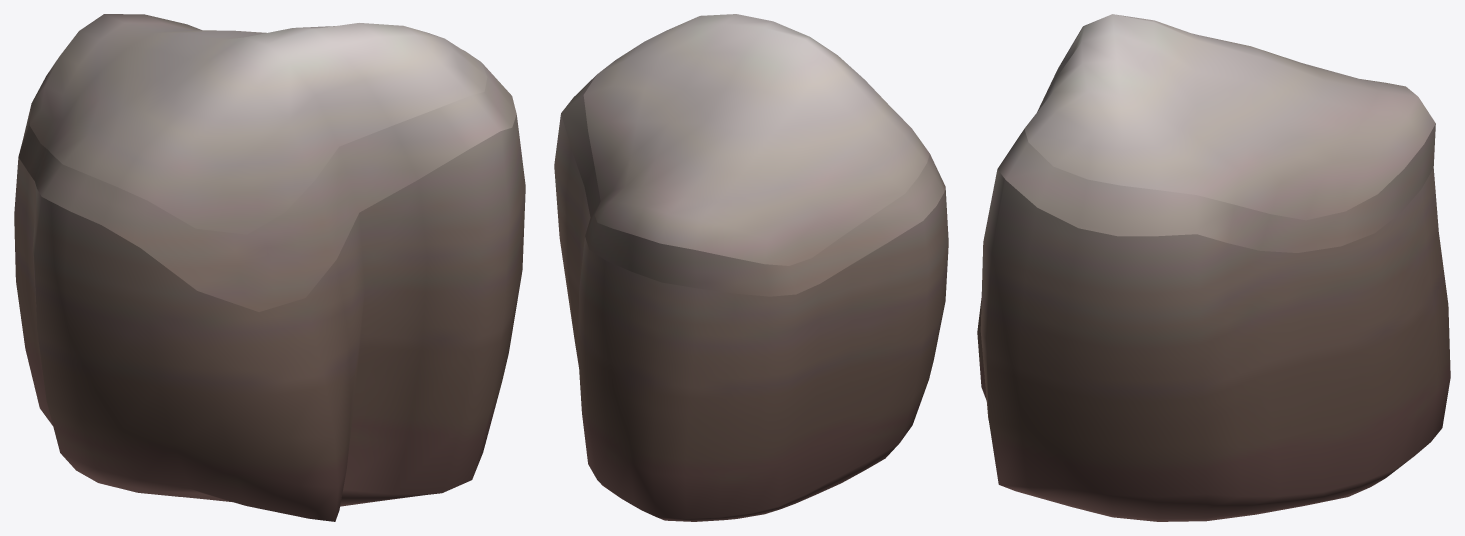
File: M_Rock_Cliff_01.fbx
3 renders of one model, left to right at view 1: azimuth 30°, elevation 25°; view 2: azimuth 150°, elevation 25°; view 3: azimuth 270°, elevation 25°, orthographic. The views are drawn at different scales.
Visible parts, largest first — view 1: M_Rock_Cliff_01; view 2: M_Rock_Cliff_01; view 3: M_Rock_Cliff_01.
Part boxes in pixels (x1,y1,x2,y2): M_Rock_Cliff_01: (14, 14, 525, 521); M_Rock_Cliff_01: (554, 14, 948, 521); M_Rock_Cliff_01: (977, 14, 1450, 521).
Size of the model in its own units: 4697 by 4824 by 4549.
Materials: 1 (1 with a texture image).
